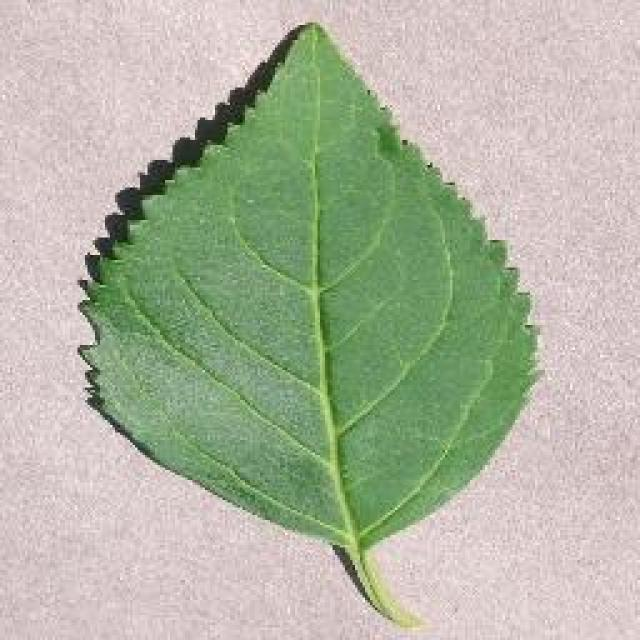Cherry___healthy: (62, 8, 550, 638)
